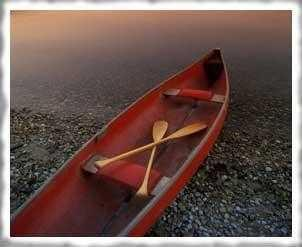kayak: (10, 48, 232, 235)
